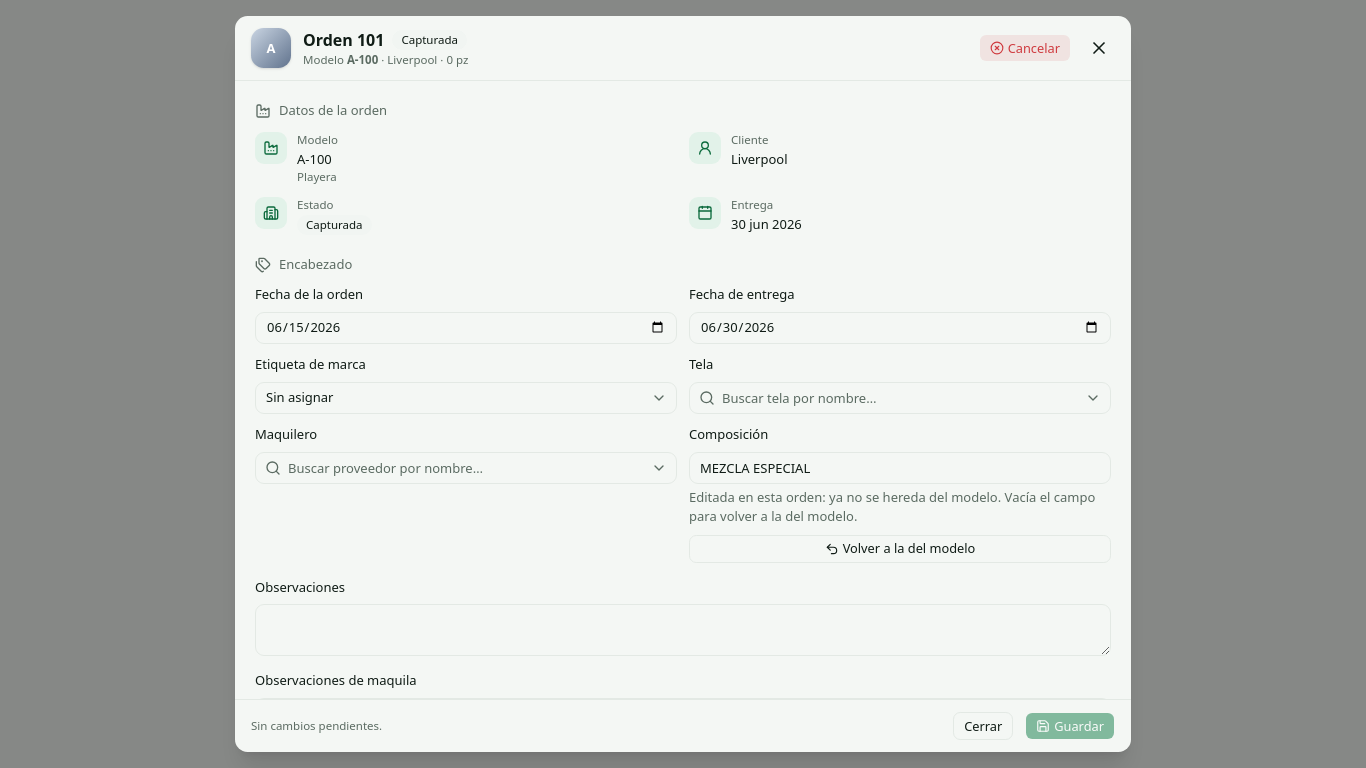
Test: <DialogoOrden> — composición heredada del modelo (Daniel 24-jul-2026) › con override avisa y ofrece volver a la del modelo (vacía el campo)
Expected: the text with test id "orden-composicion-origen" shows "Editada en esta orden", 689,488 -> 1095,525
Expected: the field labelled "Composición" holds "MEZCLA ESPECIAL", 689,452 -> 1111,484
Click the button with test id "orden-composicion-del-modelo" at (900, 549), box 689,535 -> 1111,563
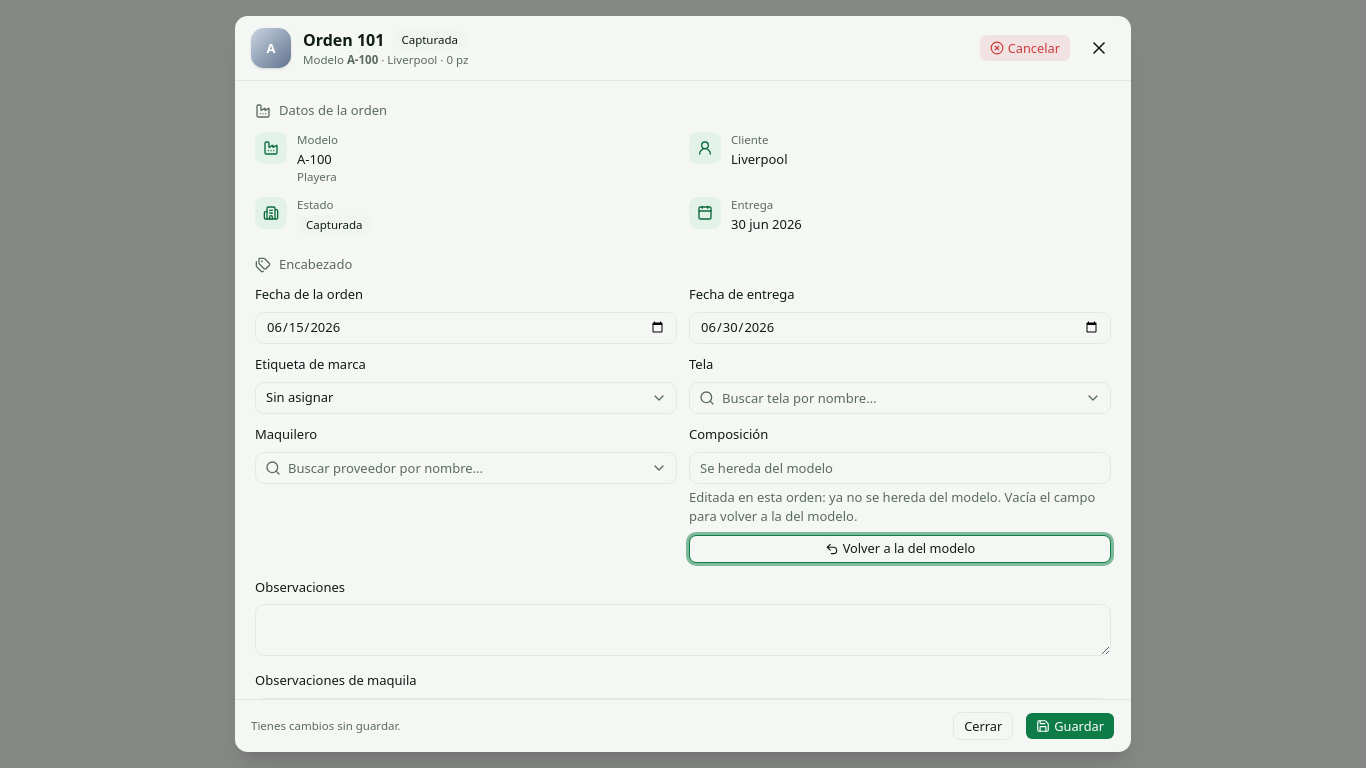
Expected: the field labelled "Composición" is empty, 689,452 -> 1111,484
Expected: the button with test id "guardar-orden" is enabled, 1025,712 -> 1115,740
